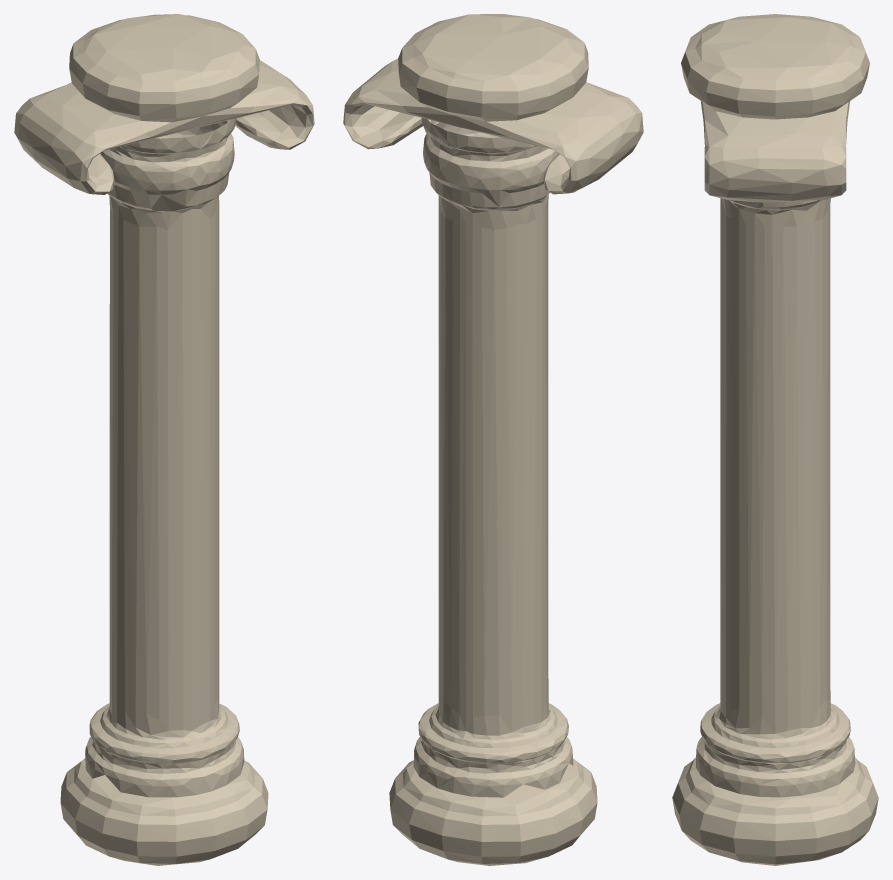
File: Pillar.fbx
The picture shows the model from 3 angles, left to right: view 1: azimuth 30°, elevation 25°; view 2: azimuth 150°, elevation 25°; view 3: azimuth 270°, elevation 25°; orthographic projection.
Parts seen in each view (by area): view 1: pillar; view 2: pillar; view 3: pillar.
Boxes of the visible parts, x1,y1,x2,y2 form: pillar: [14, 14, 314, 865]; pillar: [343, 14, 643, 865]; pillar: [672, 14, 878, 865].
Bounding box in the file's own units: 129 × 399 × 93.04.
